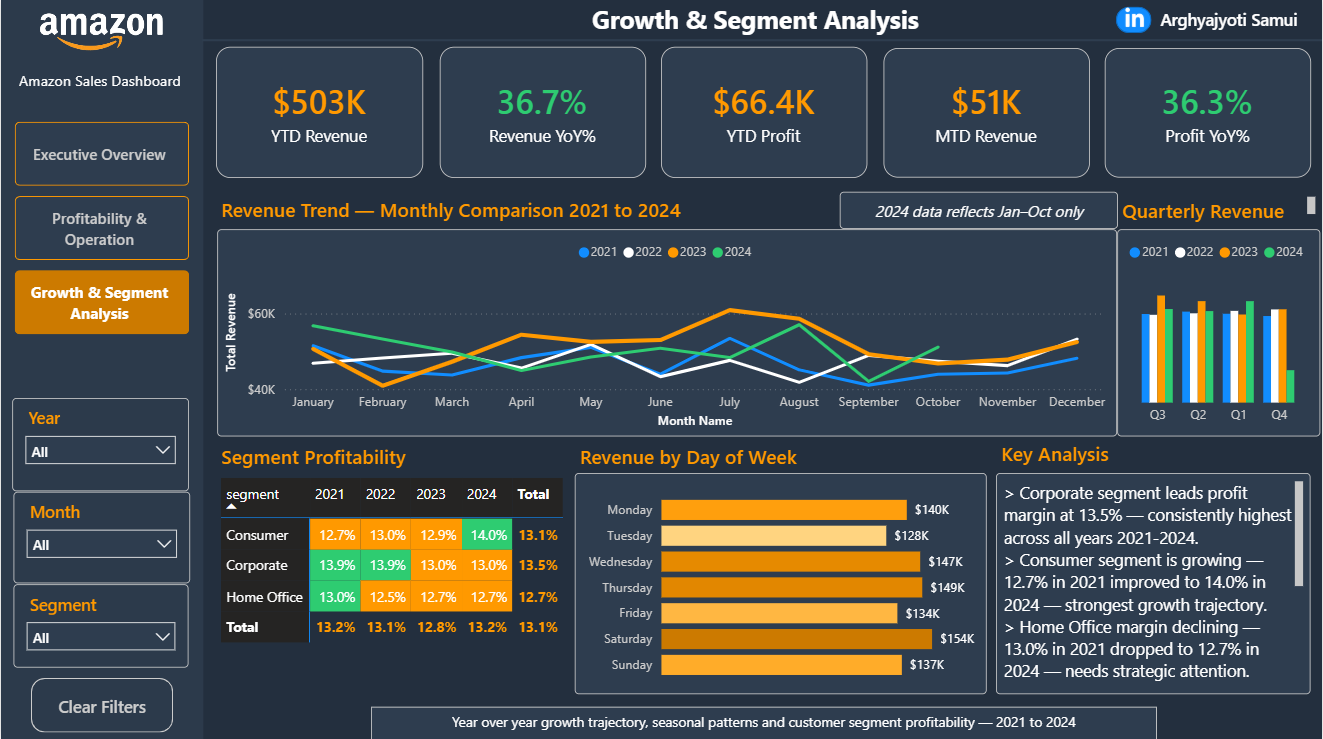

What the dashboard file says about the page in this screenshot:
{"tool":"powerbi","page":{"name":"Growth & Segment Analysis","canvas":[1280,720],"ordinal":2},"visuals":[{"type":"shape","box":[0,0,196.2,720.7],"z":0},{"type":"shape","box":[1081,8.1,34.3,25.5],"z":0,"group":"g1"},{"type":"image","box":[1089.9,6.8,19.4,25.5],"z":1000,"group":"g1"},{"type":"textbox","box":[11.4,65.7,170,50],"z":1000},{"type":"image","box":[0,0,194.3,65.7],"z":2000},{"type":"textbox","box":[1113.8,5.4,153.6,32.2],"z":2000,"group":"g1"},{"type":"actionButton","box":[1081,1.4,186.4,39],"z":3000,"group":"g1"},{"type":"slicer","fields":{"Values":["Date Table.Month Name"]},"box":[12.5,478.6,171.1,89],"z":3000},{"type":"slicer","fields":{"Values":["orders_partitioned.segment"]},"box":[12.5,567.7,169.7,80.7],"z":4000},{"type":"actionButton","box":[29.2,659.5,137.7,52.9],"z":5000},{"type":"shape","box":[194.8,33.4,1085.2,13.9],"z":6000},{"type":"cardVisual","fields":{"Data":["Date Table.YTD Revenue"]},"box":[208.2,47.2,200.9,127.1],"z":7000},{"type":"cardVisual","fields":{"Data":["Date Table.Revenue YoY%"]},"box":[424.9,47.2,199.7,127.1],"z":8000},{"type":"textbox","box":[208.2,187.6,522.9,36.3],"z":9000},{"type":"cardVisual","fields":{"Data":["Date Table.Profit YoY%"]},"box":[1070.1,48.4,199.7,125.9],"z":10000},{"type":"clusteredBarChart","fields":{"Y":["Measure Table.Total Revenue"],"Category":["Date Table.Day of Week"]},"box":[555.6,460,399.5,214.3],"z":11000},{"type":"textbox","box":[964.8,423.7,303.8,36.3],"z":12000},{"type":"cardVisual","fields":{"Data":["Date Table.YTD Profit"]},"box":[639.7,47.2,199.7,127.1],"z":13000},{"type":"textbox","box":[208.2,426.1,325.6,37.5],"z":14000},{"type":"textbox","box":[964.8,460,305,214.3],"z":15000},{"type":"textbox","box":[358.3,686.4,761.4,33.9],"z":16000},{"type":"textbox","box":[380.9,0,701.3,46.7],"z":17000},{"type":"textbox","box":[1082.2,187.6,197.3,36.3],"z":18000},{"type":"lineChart","fields":{"Series":["Date Table.Year"],"Y":["Measure Table.Total Revenue"],"Category":["Date Table.Month Name"]},"box":[209.9,224.7,872.1,201],"z":19000},{"type":"pivotTable","fields":{"Rows":["orders_partitioned.segment"],"Columns":["Date Table.Year"],"Values":["Measure Table.Profit Margin %"]},"box":[208.2,460,343.8,213],"z":20000},{"type":"slicer","fields":{"Values":["Date Table.Year"]},"box":[11.1,388.2,171.1,90.4],"z":21000},{"type":"cardVisual","fields":{"Data":["Measure Table.MTD Revenue"]},"box":[854.6,48.4,199.7,125.9],"z":22000},{"type":"textbox","box":[555.6,426.1,325.6,37.5],"z":23000},{"type":"textbox","box":[812.2,187.6,269.9,36.3],"z":24000},{"type":"clusteredColumnChart","fields":{"Category":["Date Table.Quarter"],"Y":["Measure Table.Total Revenue"],"Series":["Date Table.Year"]},"box":[1081.9,224.7,196.6,201],"z":25000},{"type":"pageNavigator","box":[13.9,119.7,169.7,207.3],"z":27000},{"type":"group","id":"g1","title":"Signeture","box":[1081,1.4,186.4,39],"z":29000}]}

Visuals, with their boxes in screenshot pixels (x1, y1, x2, y2), scaled from the page's 1280x720 canvas onto the 1323x739 screenshot:
shape: BBox(0, 0, 203, 738)
shape: BBox(1117, 8, 1153, 34)
image: BBox(1127, 7, 1147, 33)
textbox: BBox(12, 67, 187, 119)
image: BBox(0, 0, 201, 67)
textbox: BBox(1151, 6, 1310, 39)
actionButton: BBox(1117, 1, 1310, 41)
slicer - Date Table.Month Name: BBox(13, 491, 190, 583)
slicer - orders_partitioned.segment: BBox(13, 583, 188, 666)
actionButton: BBox(30, 677, 173, 731)
shape: BBox(201, 34, 1322, 49)
cardVisual - Date Table.YTD Revenue: BBox(215, 48, 423, 179)
cardVisual - Date Table.Revenue YoY%: BBox(439, 48, 646, 179)
textbox: BBox(215, 193, 756, 230)
cardVisual - Date Table.Profit YoY%: BBox(1106, 50, 1312, 179)
clusteredBarChart - Measure Table.Total Revenue x Date Table.Day of Week: BBox(574, 472, 987, 692)
textbox: BBox(997, 435, 1311, 472)
cardVisual - Date Table.YTD Profit: BBox(661, 48, 868, 179)
textbox: BBox(215, 437, 552, 476)
textbox: BBox(997, 472, 1312, 692)
textbox: BBox(370, 705, 1157, 738)
textbox: BBox(394, 0, 1119, 48)
textbox: BBox(1119, 193, 1322, 230)
lineChart - Date Table.Year x Measure Table.Total Revenue: BBox(217, 231, 1118, 437)
pivotTable - orders_partitioned.segment x Date Table.Year: BBox(215, 472, 571, 691)
slicer - Date Table.Year: BBox(11, 398, 188, 491)
cardVisual - Measure Table.MTD Revenue: BBox(883, 50, 1090, 179)
textbox: BBox(574, 437, 911, 476)
textbox: BBox(839, 193, 1118, 230)
clusteredColumnChart - Date Table.Quarter x Measure Table.Total Revenue: BBox(1118, 231, 1321, 437)
pageNavigator: BBox(14, 123, 190, 336)
"Signeture" group: BBox(1117, 1, 1310, 41)
